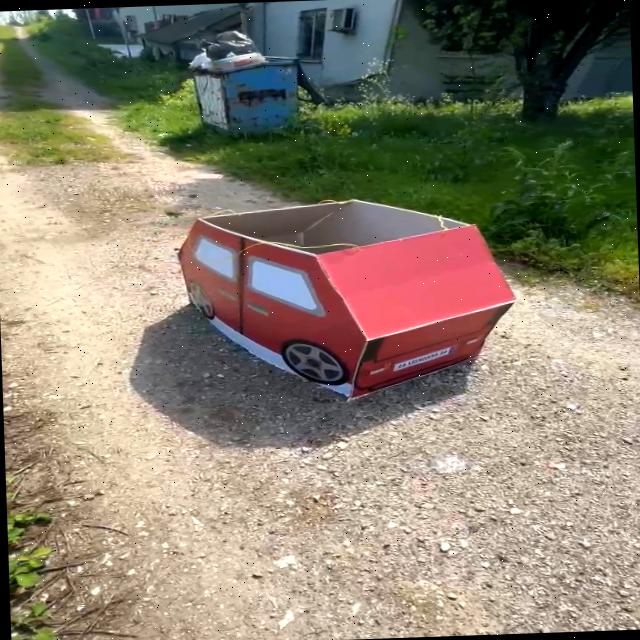red_car: (106, 166, 571, 417)
